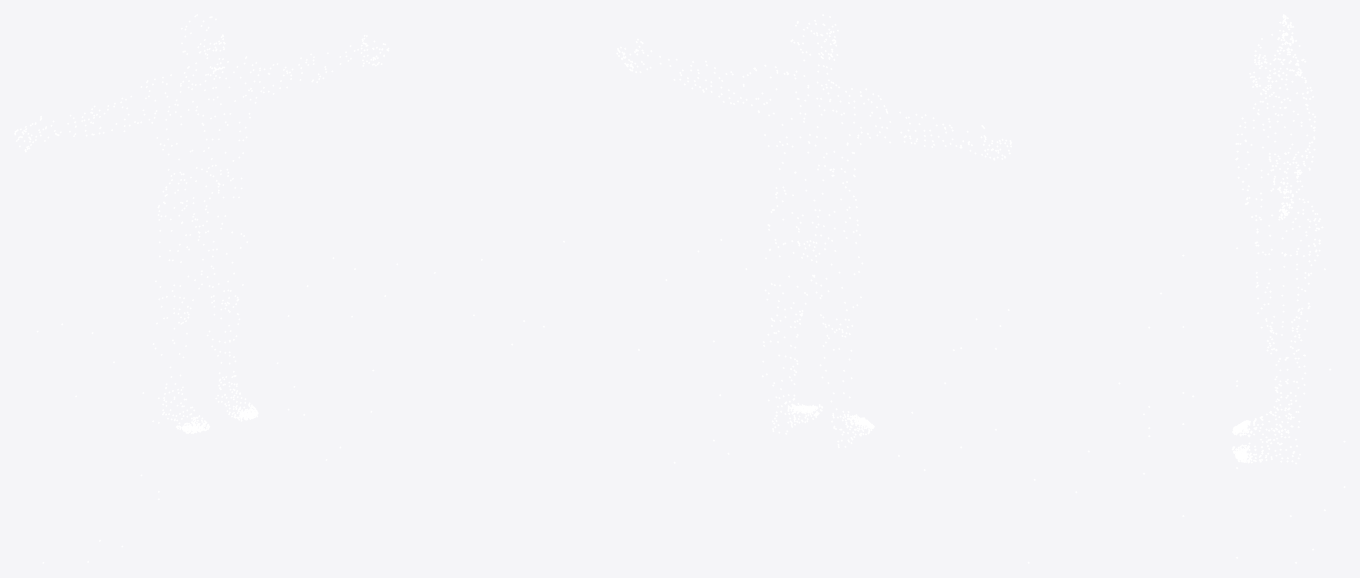
Rendered from plexus_b.glb.
The picture shows the model from 3 angles, left to right: view 1: azimuth 30°, elevation 25°; view 2: azimuth 150°, elevation 25°; view 3: azimuth 270°, elevation 25°; orthographic projection. The views are drawn at different scales.
Size of the model in its own units: 1.71 by 1.71 by 0.695.
